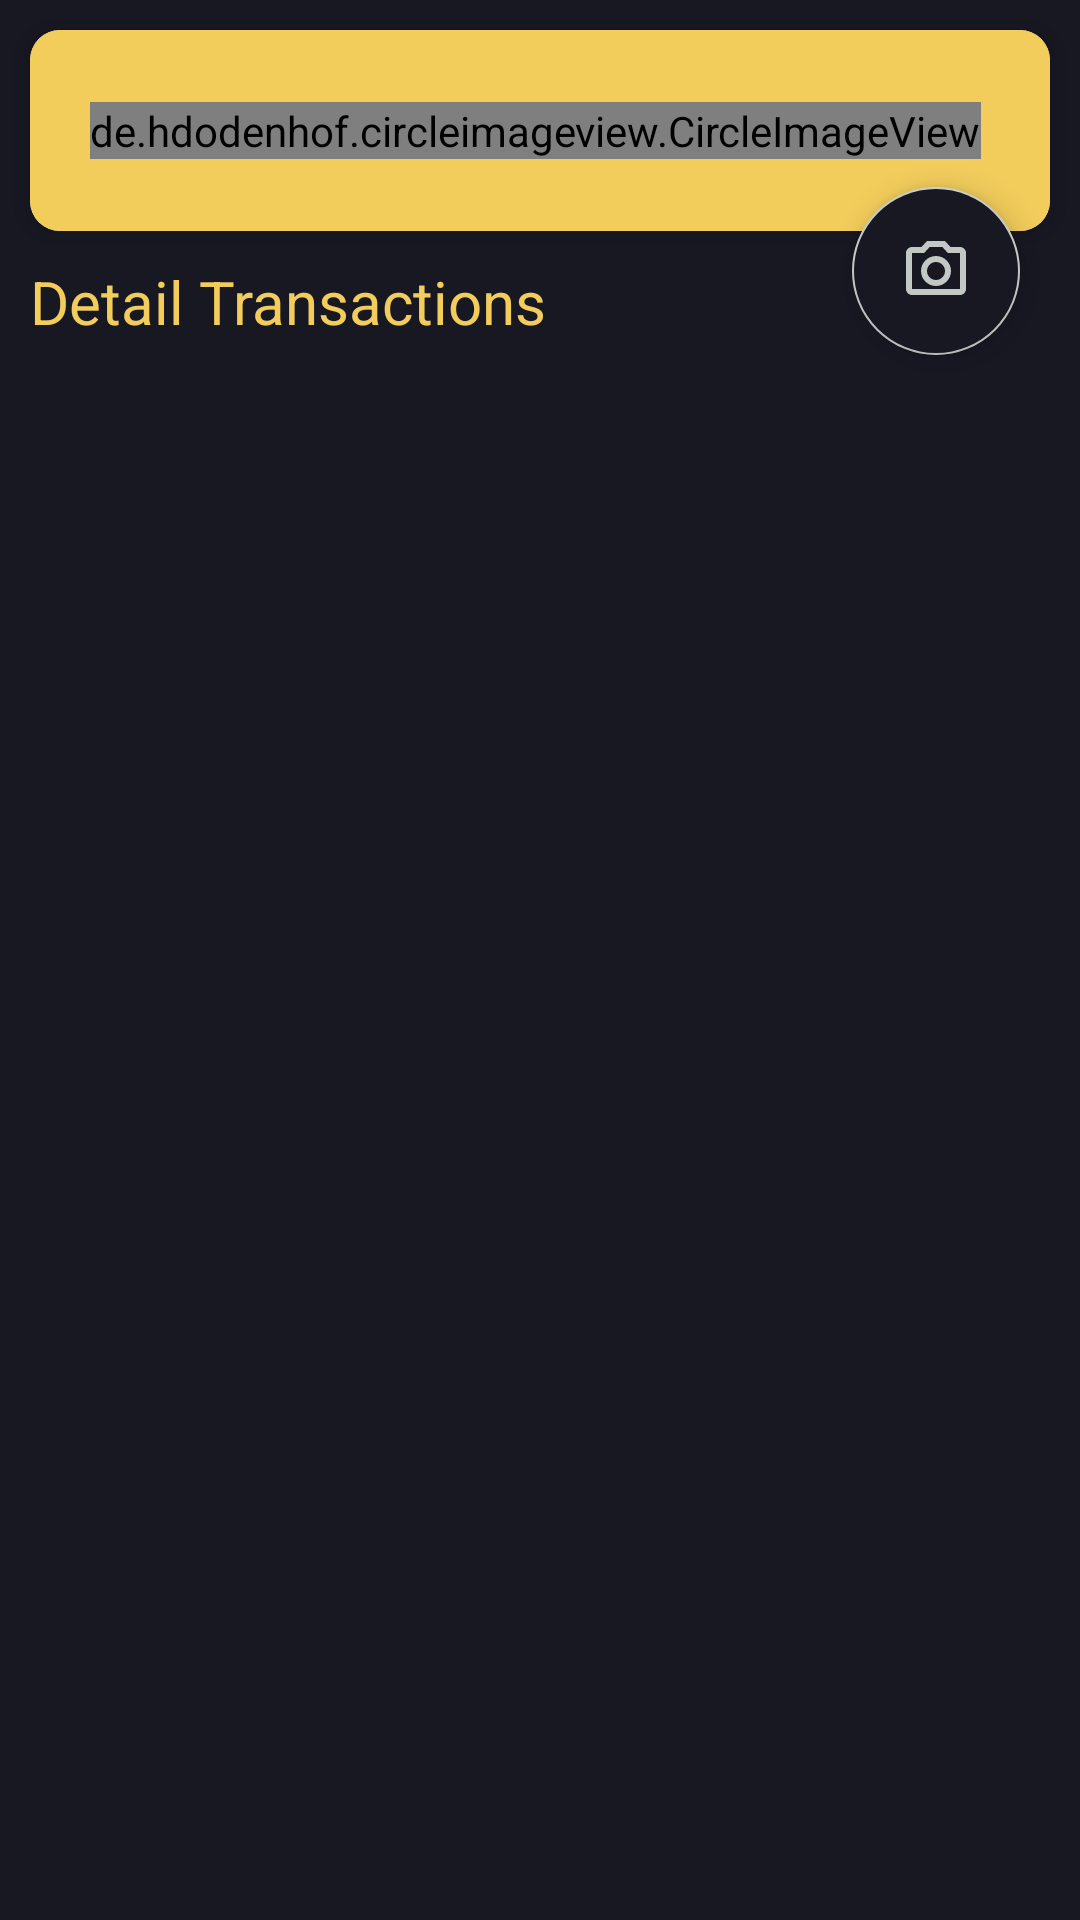

Screen size 1080w x 1920h. Icon name, then its box in pixels as (x1,y1,x2,y2):
camera: (852,187,1020,355)
